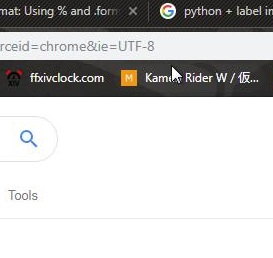cursor: (168, 63, 184, 87)
